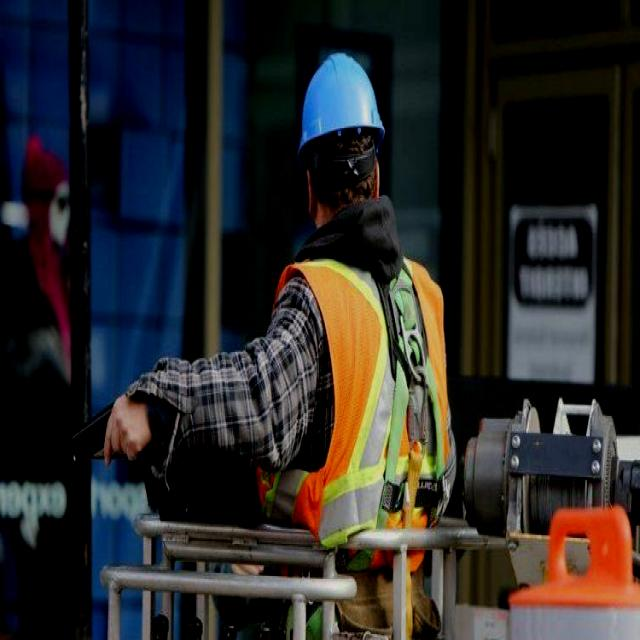hand_noglove: (108, 352, 172, 466)
head_helmet: (294, 48, 388, 162)
person: (245, 53, 455, 640), (2, 139, 71, 637)
vest: (255, 250, 451, 541)
